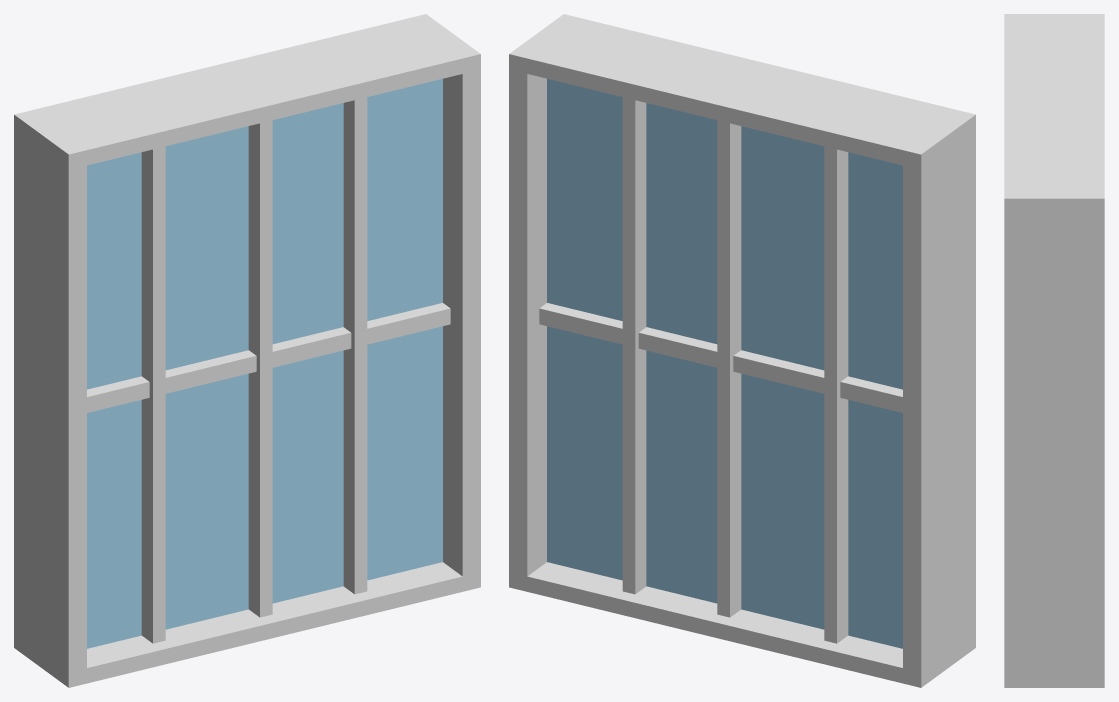
File: window_022.glb
3 views of the same model, side by side, from view 1: azimuth 30°, elevation 25°; view 2: azimuth 150°, elevation 25°; view 3: azimuth 270°, elevation 25° (orthographic). The views are drawn at different scales.
Visible parts, largest first — view 1: window_022; view 2: window_022; view 3: window_022.
Part boxes in pixels (x1=…): window_022: x1=14, y1=14, x2=480, y2=687; window_022: x1=509, y1=14, x2=975, y2=687; window_022: x1=1004, y1=14, x2=1104, y2=687.
Bounding box in the file's own units: 1.61 × 1.99 × 0.37.
Materials: 1 (1 with a texture image).
